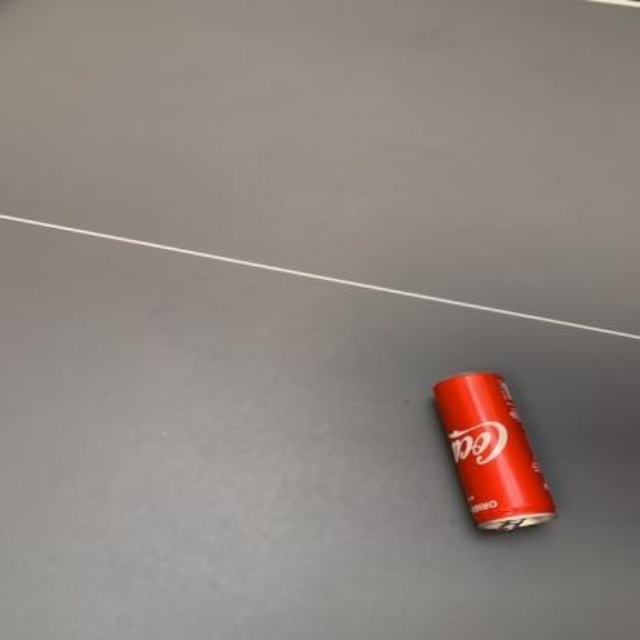trash: (434, 372, 554, 529)
